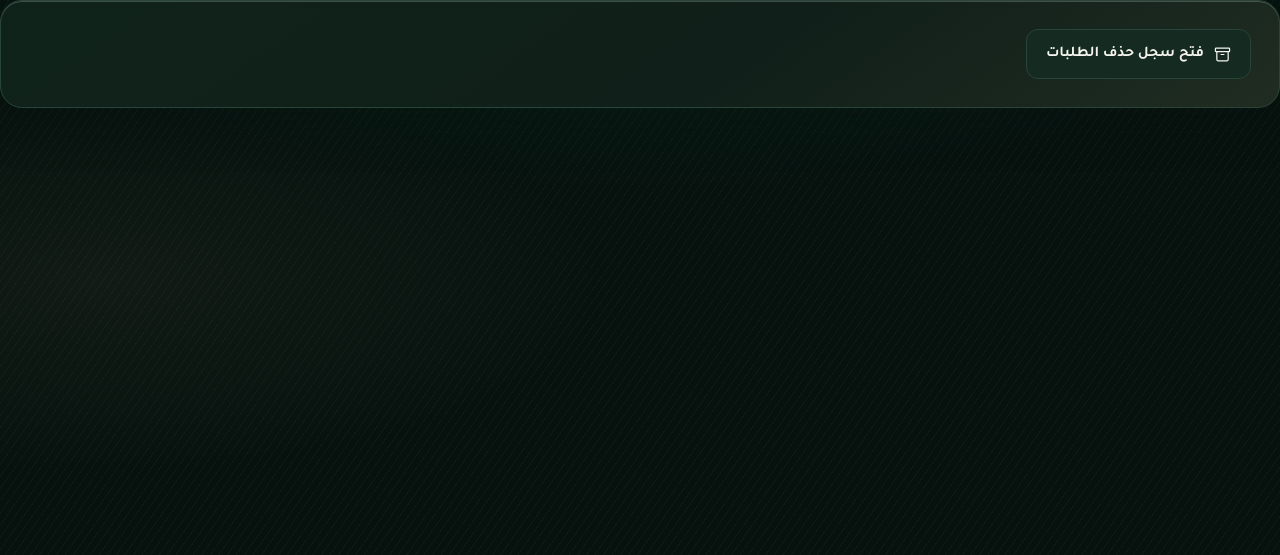
Scenario: loads request-removal evidence only after opening and exposes the recorded reason privately
Click the button "فتح سجل حذف الطلبات" at (1138, 54), box [1026,29,1251,79]
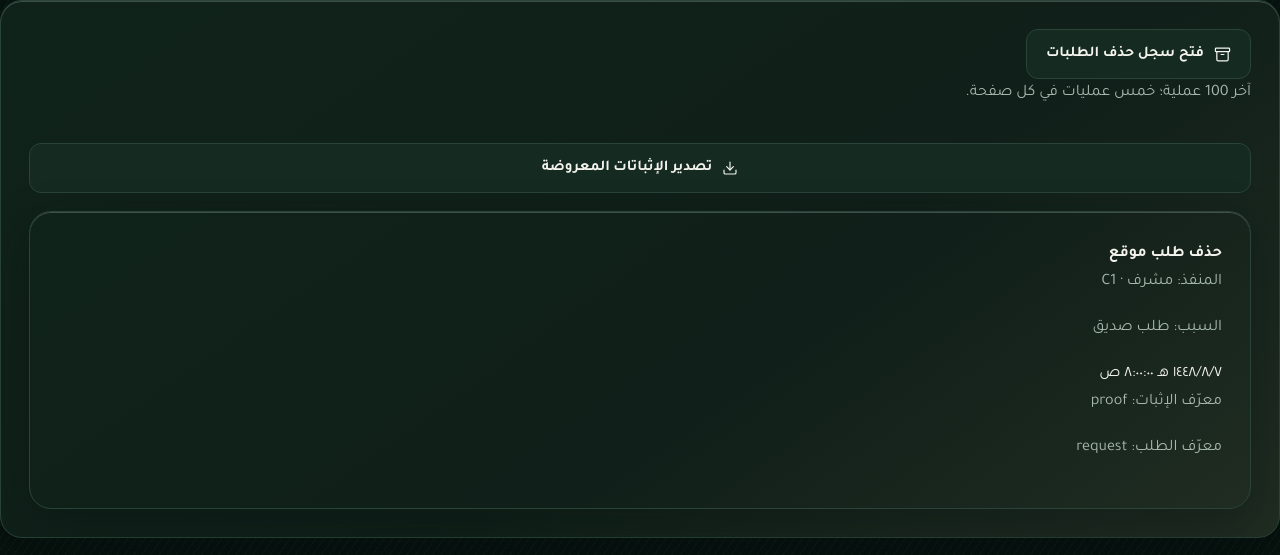
Expected: the text "طلب صديق" is shown, [1093,320,1170,336]
Expected: the text "تصدير الإثباتات المعروضة" is shown, [29,143,1251,193]
